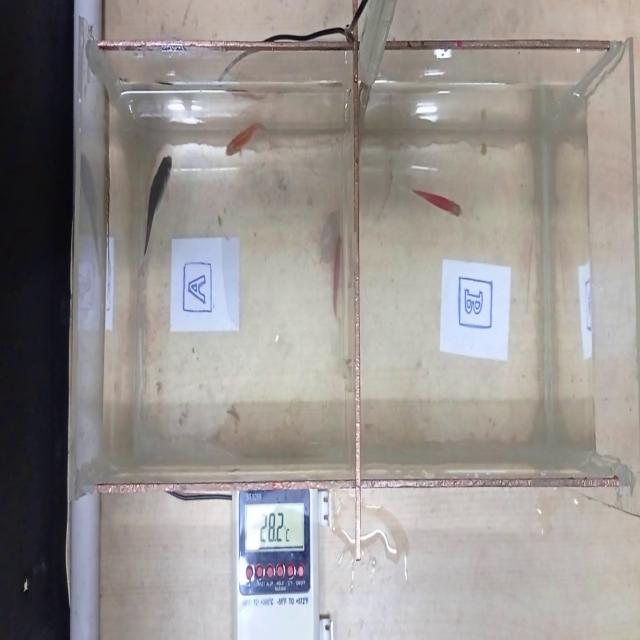Fish A1: (133, 121, 176, 274)
Fish A2: (219, 118, 270, 174)
Fish A3: (329, 229, 347, 333)
Fish B: (402, 170, 472, 241)
